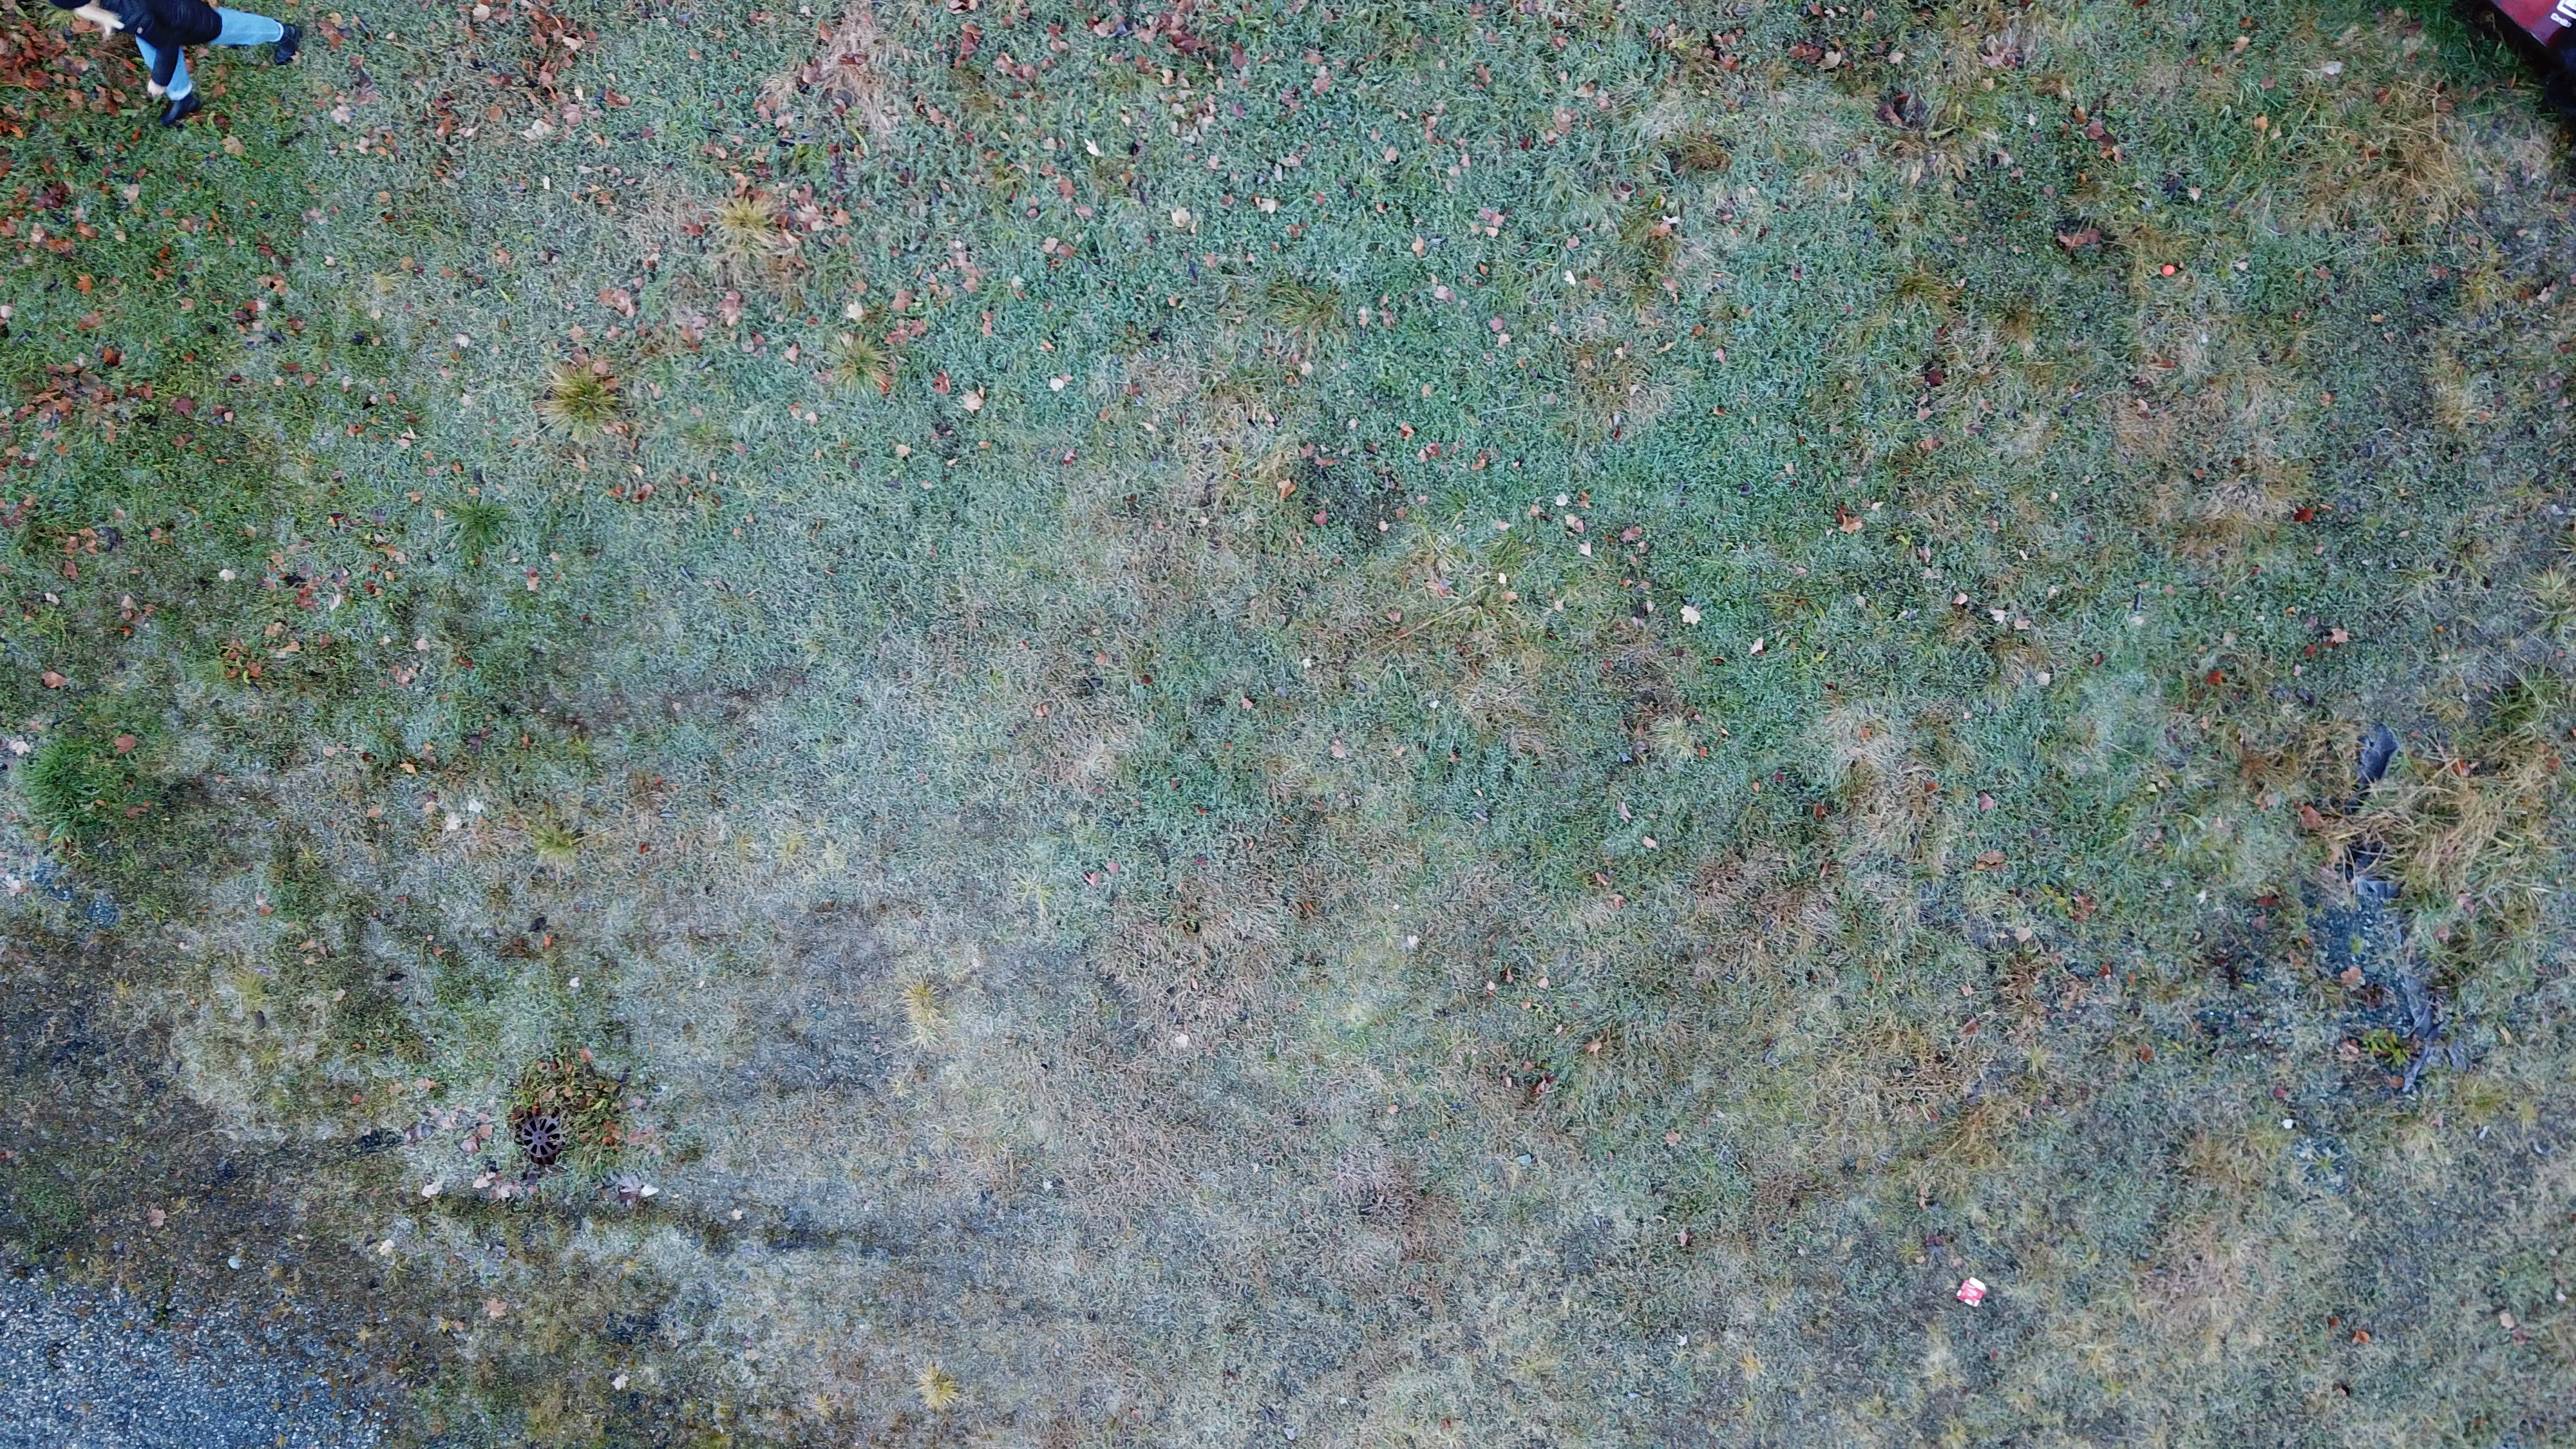Plastic: (1953, 1277, 1987, 1307), (2162, 265, 2178, 278)
